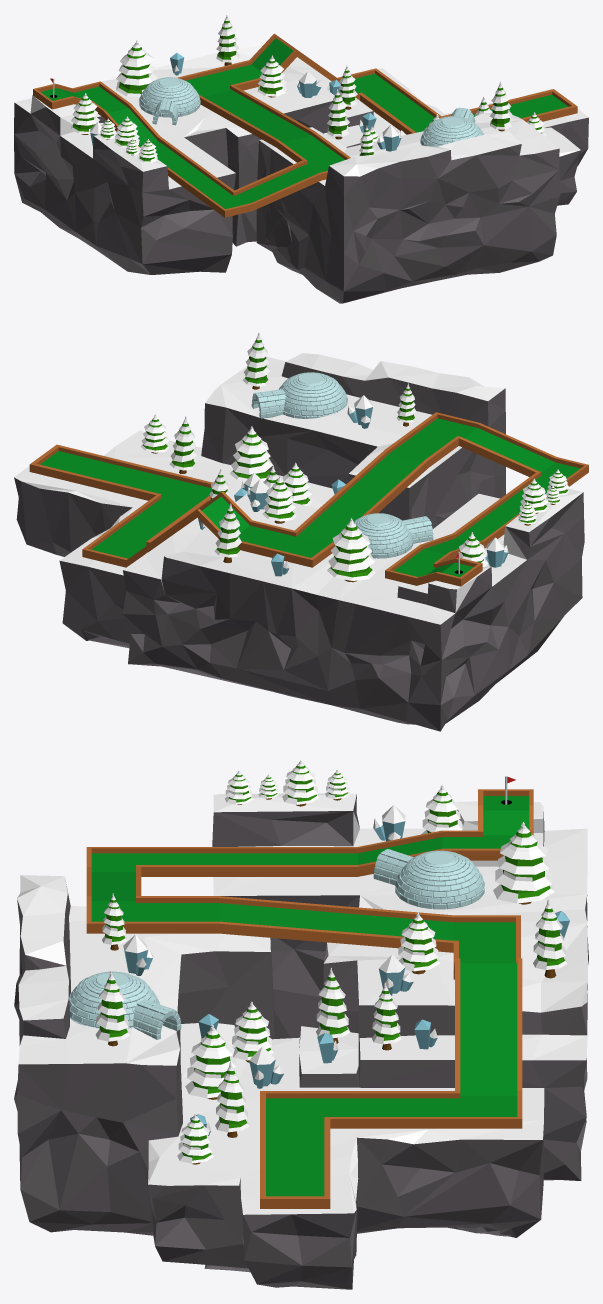
Rendered from MapaNieve.glb.
3 views of the same model, one above another, from view 1: azimuth 30°, elevation 25°; view 2: azimuth 150°, elevation 25°; view 3: azimuth 270°, elevation 25° (orthographic). The views are drawn at different scales.
Parts seen in each view (by area): view 1: Cube, Cesped, Paredes, TreeSnowFat, TreeSnowMedium, TreeSnowMedium.003, TreeSnowTall.005, TreeSnowTall, TreeSnowTall.003, TreeSnowTall.004, TreeSnowMedium2.002, HieloThree.002 (+2 smaller); view 2: Cube, Cesped, Paredes, TreeSnowFat, TreeSnowFat.001, TreeSnowMedium, TreeSnowTall.005, TreeSnowTall.002, TreeSnowTall, ParedEntrada.002, TreeSnowMedium.002, TreeSnowMedium.001 (+5 smaller); view 3: Cube, Cesped, Paredes, TreeSnowFat, TreeSnowFat.001, TreeSnowMedium, TreeSnowTall.005, TreeSnowTall.002, TreeSnowTall, TreeSnowMedium.001, TreeSnowTall.003, ParedEntrada.002 (+11 smaller).
Boxes of the visible parts, bbox=[...] form: Cube: bbox=[14, 43, 588, 303]; Cesped: bbox=[41, 38, 568, 209]; Paredes: bbox=[33, 33, 577, 217]; TreeSnowFat: bbox=[116, 40, 157, 97]; TreeSnowMedium: bbox=[257, 55, 286, 97]; TreeSnowMedium.003: bbox=[71, 93, 99, 134]; TreeSnowTall.005: bbox=[216, 15, 239, 65]; TreeSnowTall: bbox=[489, 81, 512, 131]; TreeSnowTall.003: bbox=[327, 89, 350, 139]; TreeSnowTall.004: bbox=[338, 65, 357, 109]; TreeSnowMedium2.002: bbox=[114, 116, 139, 147]; HieloThree.002: bbox=[297, 71, 321, 97]; Cube: bbox=[14, 353, 584, 731]; Cesped: bbox=[40, 418, 580, 576]; Paredes: bbox=[29, 412, 588, 586]; TreeSnowFat: bbox=[327, 518, 375, 582]; TreeSnowFat.001: bbox=[230, 426, 272, 481]; TreeSnowMedium: bbox=[262, 476, 296, 523]; TreeSnowTall.005: bbox=[214, 503, 241, 562]; TreeSnowTall.002: bbox=[169, 416, 196, 473]; TreeSnowTall: bbox=[242, 332, 269, 389]; ParedEntrada.002: bbox=[251, 389, 286, 418]; TreeSnowMedium.002: bbox=[140, 414, 169, 453]; TreeSnowMedium.001: bbox=[282, 462, 312, 506]; Cube: bbox=[14, 793, 588, 1289]; Cesped: bbox=[91, 796, 529, 1196]; Paredes: bbox=[86, 789, 533, 1208]; TreeSnowFat: bbox=[493, 822, 554, 904]; TreeSnowFat.001: bbox=[185, 1024, 238, 1099]; TreeSnowMedium: bbox=[398, 912, 440, 974]; TreeSnowTall.005: bbox=[533, 899, 567, 978]; TreeSnowTall.002: bbox=[215, 1061, 249, 1137]; TreeSnowTall: bbox=[95, 970, 130, 1046]; TreeSnowMedium.001: bbox=[232, 1001, 273, 1062]; TreeSnowTall.003: bbox=[316, 967, 350, 1043]; ParedEntrada.002: bbox=[133, 999, 181, 1039].
Size of the model in its own units: 219 by 81.13 by 162.
